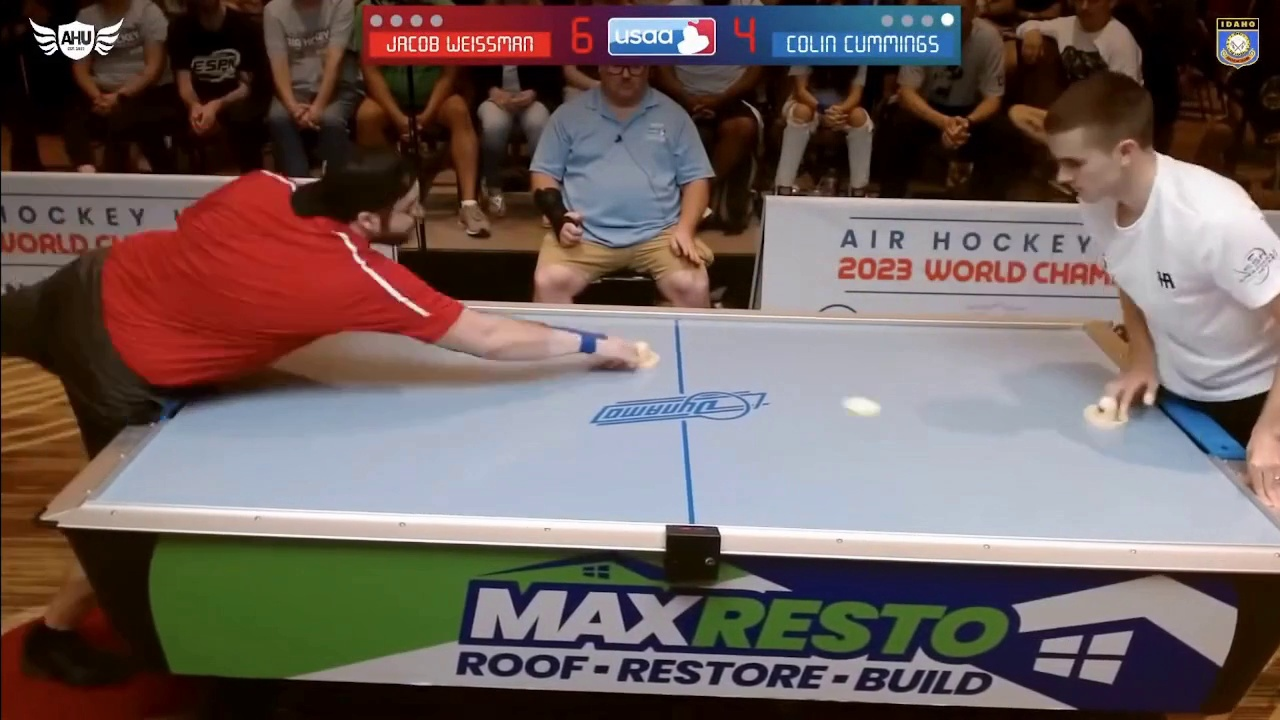player: (1083, 397, 1131, 431), (625, 339, 664, 369)
puck: (843, 392, 887, 417)
table: (108, 296, 1277, 554)
